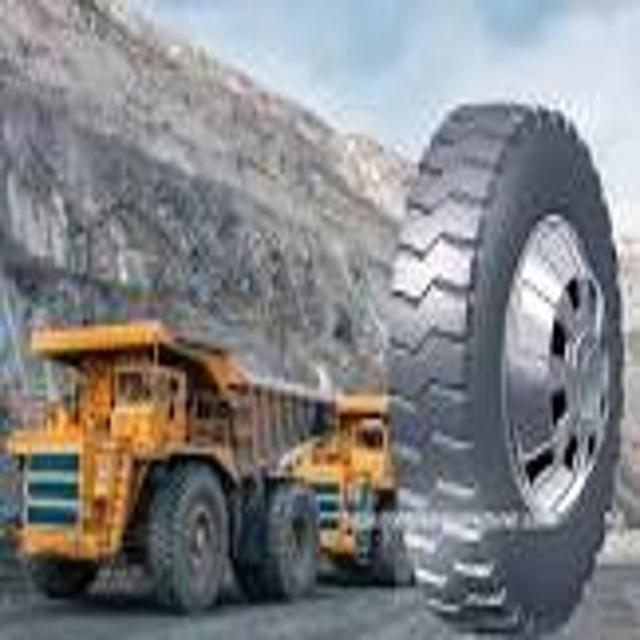dump_truck: (12, 302, 328, 600)
